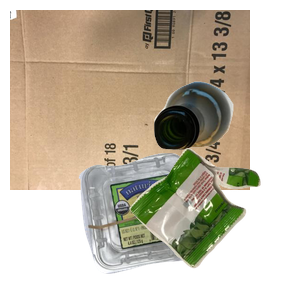cardboard: (10, 10, 250, 190)
glass: (151, 79, 300, 221)
plastic: (76, 151, 270, 300)
trash: (127, 146, 300, 300)
